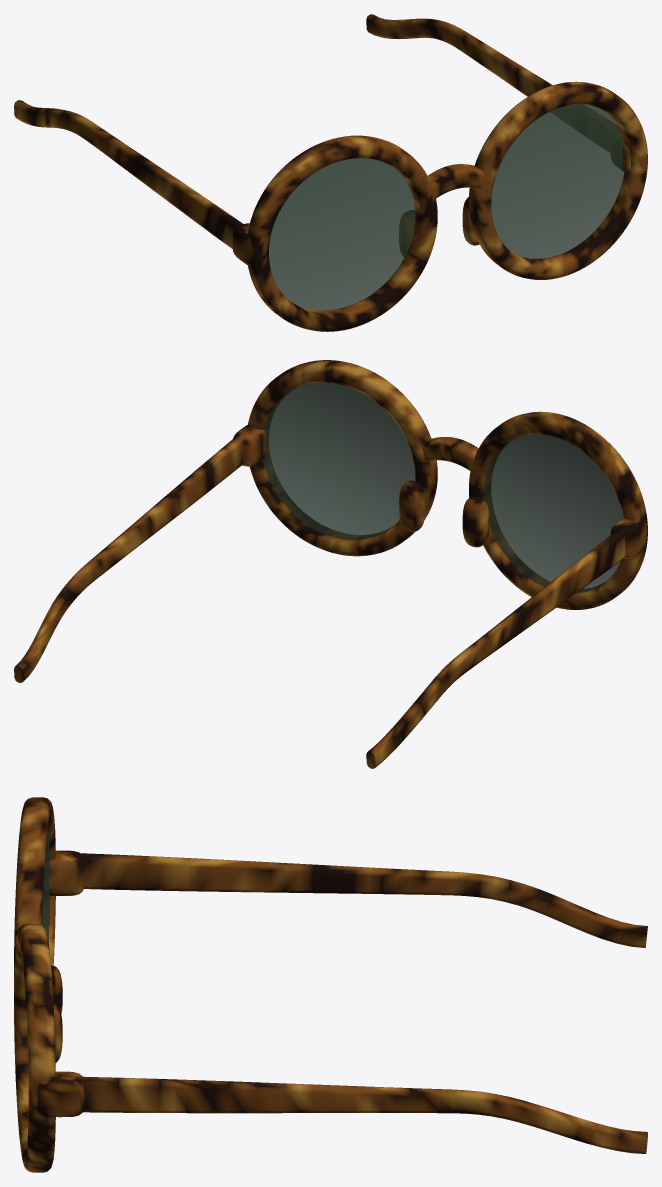
Rendered from TO-RND-02.glb.
The picture shows the model from 3 angles, top to bottom: view 1: azimuth 30°, elevation 25°; view 2: azimuth 150°, elevation 25°; view 3: azimuth 270°, elevation 25°; orthographic projection. The views are drawn at different scales.
Visible parts, largest first — view 1: frame, lenses; view 2: frame, lenses; view 3: frame, lenses.
Boxes of the visible parts, left/top/right/bottom form: frame: left=14, top=14, right=647, bottom=331; lenses: left=269, top=104, right=624, bottom=310; frame: left=14, top=360, right=647, bottom=768; lenses: left=263, top=382, right=623, bottom=593; frame: left=14, top=797, right=647, bottom=1172; lenses: left=42, top=827, right=49, bottom=942.
Bounding box in the file's own units: 0.1294 × 0.0582 × 0.1483.
